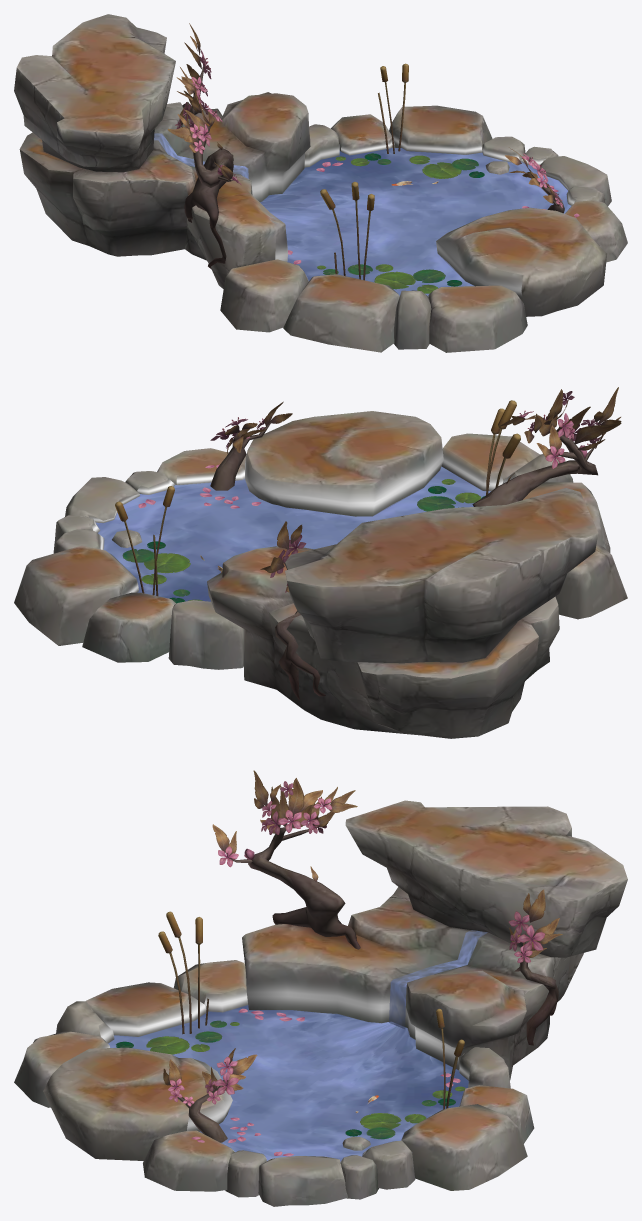
3 views of the same model, one above another, from view 1: azimuth 30°, elevation 25°; view 2: azimuth 150°, elevation 25°; view 3: azimuth 270°, elevation 25° (orthographic). The views are drawn at different scales.
Bounding box in the file's own units: 7.38 × 3.13 × 7.6.
7 materials, 7 textured.
